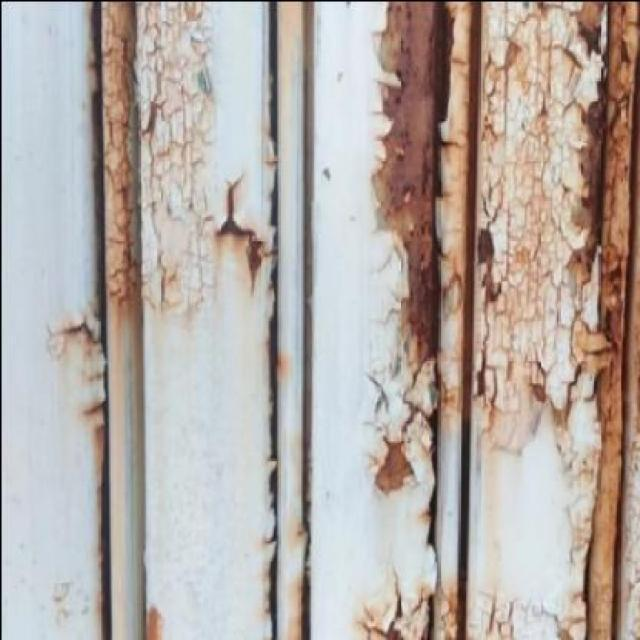Corrosion: (354, 0, 639, 639)
